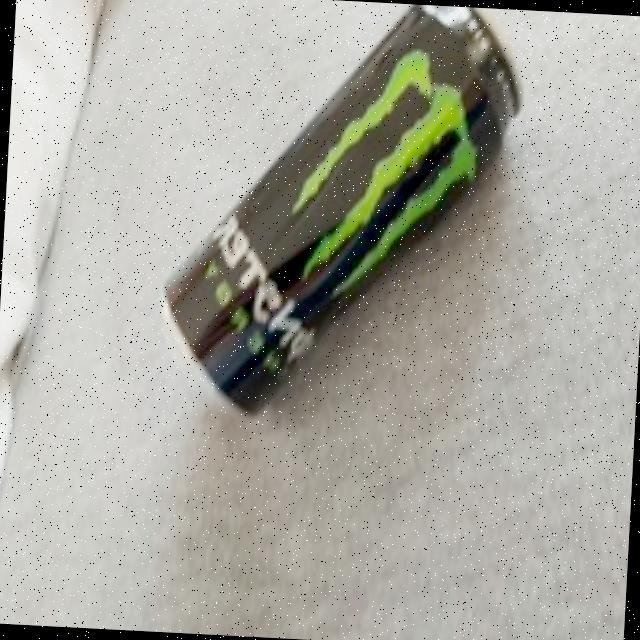Metal: (152, 0, 530, 434)
